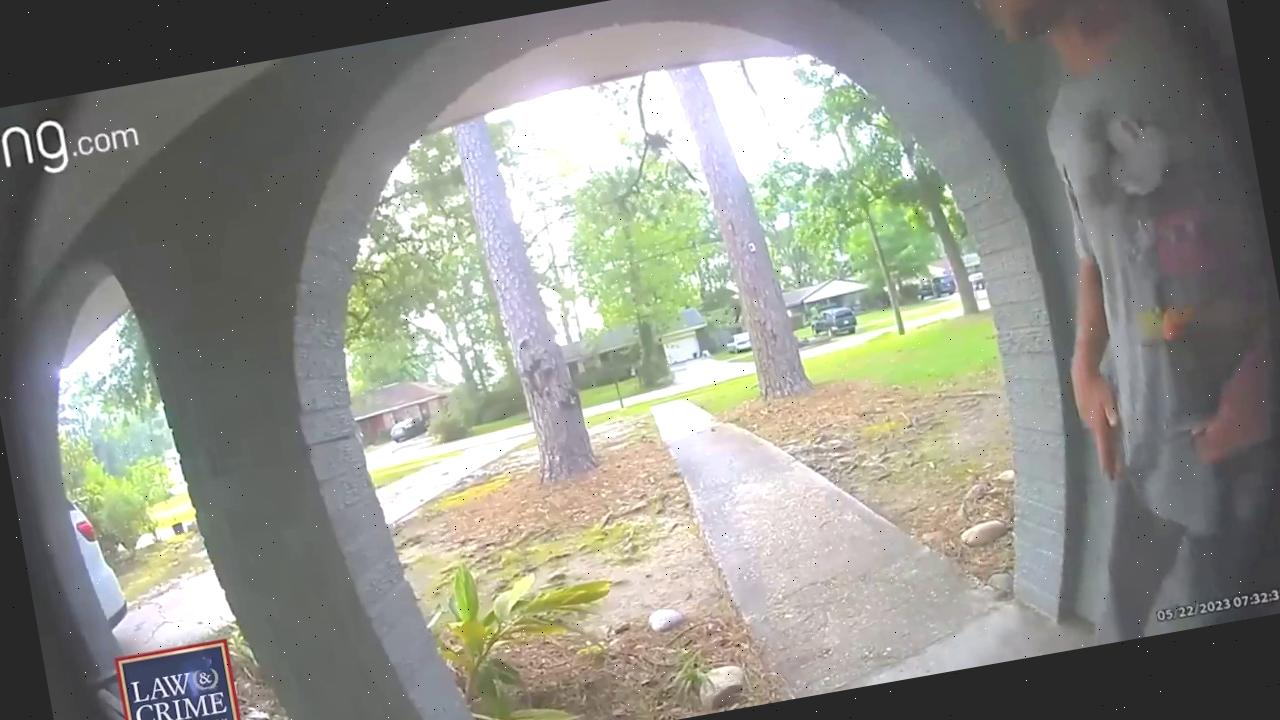suspicion: (951, 0, 1280, 649)
